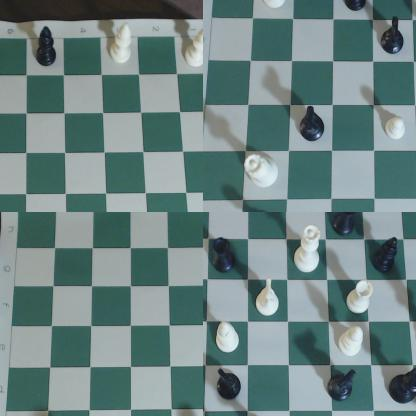black-bishop: (36, 25, 64, 77), (376, 237, 403, 274), (343, 1, 369, 17)
black-knight: (325, 369, 359, 405), (381, 18, 409, 57), (300, 105, 327, 142), (217, 369, 244, 401)
black-queen: (389, 364, 416, 410)
black-rook: (212, 237, 238, 275), (333, 213, 362, 242)
white-bishop: (110, 26, 138, 75), (183, 22, 203, 71), (340, 323, 364, 361), (215, 321, 240, 355)
white-knight: (254, 276, 280, 317), (259, 1, 289, 14)
white-pawn: (386, 114, 408, 142)
white-queen: (292, 224, 326, 276), (245, 153, 279, 189)
white-rook: (345, 277, 377, 319)
